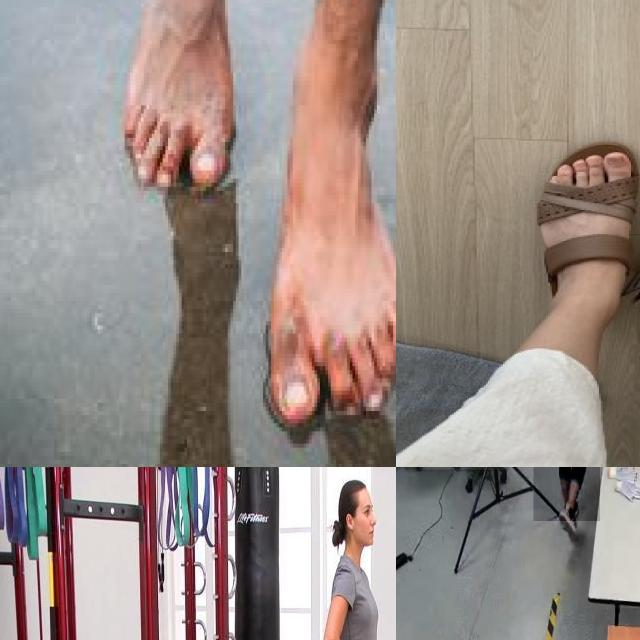Barefoots: (268, 75, 396, 429)
No_Ear-Protection: (336, 502, 356, 538)
Sandals: (528, 136, 640, 321)
face_nomask: (363, 517, 385, 550)
person: (322, 478, 387, 640)
shoes: (559, 502, 579, 544)
